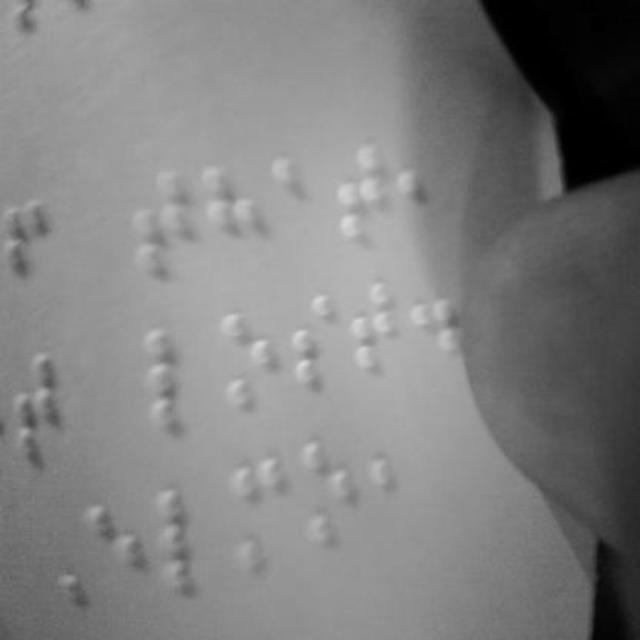braiile: (158, 482, 222, 602), (86, 498, 152, 610), (296, 432, 359, 544), (10, 350, 70, 466), (346, 270, 406, 386), (1, 192, 61, 306), (330, 138, 388, 254), (216, 306, 278, 414), (203, 162, 261, 274), (231, 456, 287, 568), (137, 172, 195, 280), (268, 148, 322, 258), (145, 324, 203, 426), (288, 292, 342, 396)
